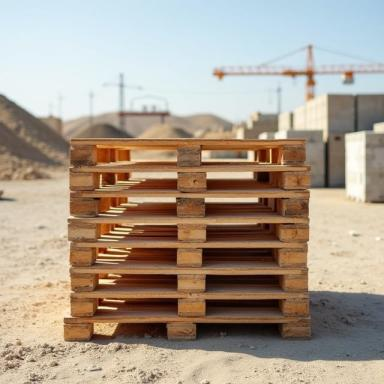pallet: (70, 138, 306, 169), (69, 166, 311, 194), (69, 242, 308, 270), (69, 192, 310, 219), (67, 218, 310, 243), (70, 293, 310, 318), (69, 269, 308, 294), (63, 317, 311, 341), (94, 172, 178, 190), (93, 150, 177, 165), (98, 248, 177, 261), (202, 248, 273, 261), (99, 274, 177, 284), (202, 150, 255, 164), (206, 275, 279, 284), (206, 172, 253, 179)
